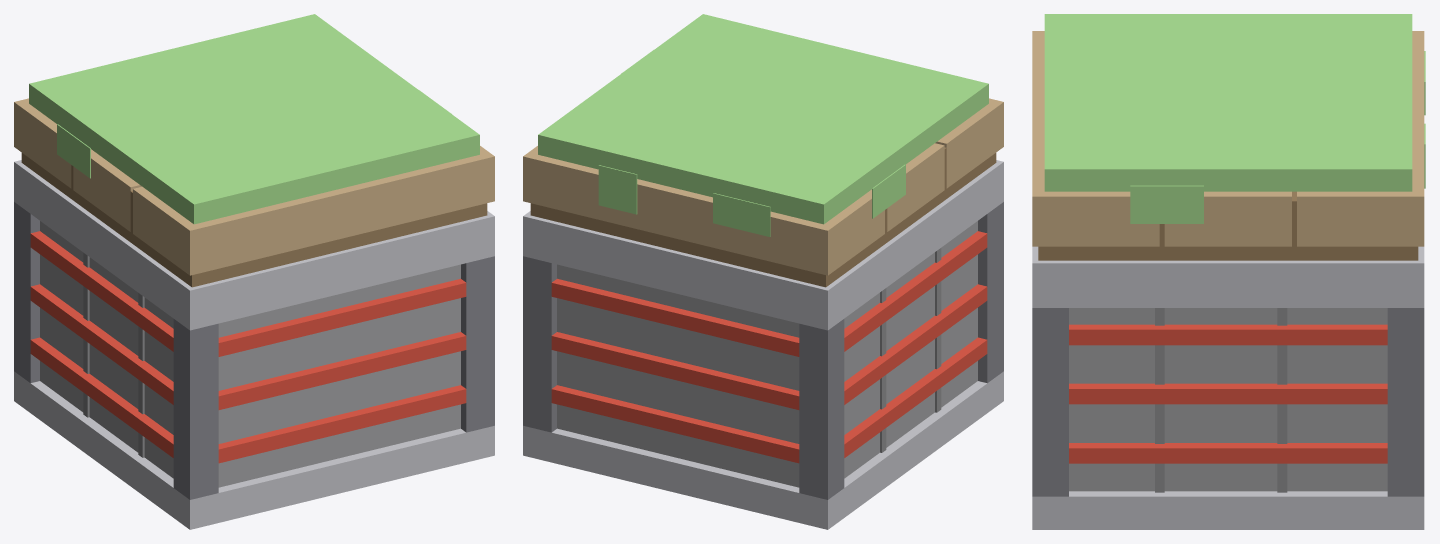
The model's file is sticky_piston_3_held.gltf.
The picture shows the model from 3 angles, left to right: view 1: azimuth 30°, elevation 25°; view 2: azimuth 150°, elevation 25°; view 3: azimuth 270°, elevation 25°; orthographic projection. The views are drawn at different scales.
Parts seen in each view (by area): view 1: cinnabar_sticky_piston_3_held; view 2: cinnabar_sticky_piston_3_held; view 3: cinnabar_sticky_piston_3_held.
Part boxes in pixels (box(x1,y1,x2,y2)): cinnabar_sticky_piston_3_held: box(14, 14, 494, 529); cinnabar_sticky_piston_3_held: box(523, 14, 1003, 529); cinnabar_sticky_piston_3_held: box(1032, 14, 1425, 529).
Size of the model in its own units: 0.161 by 0.16 by 0.1605.
